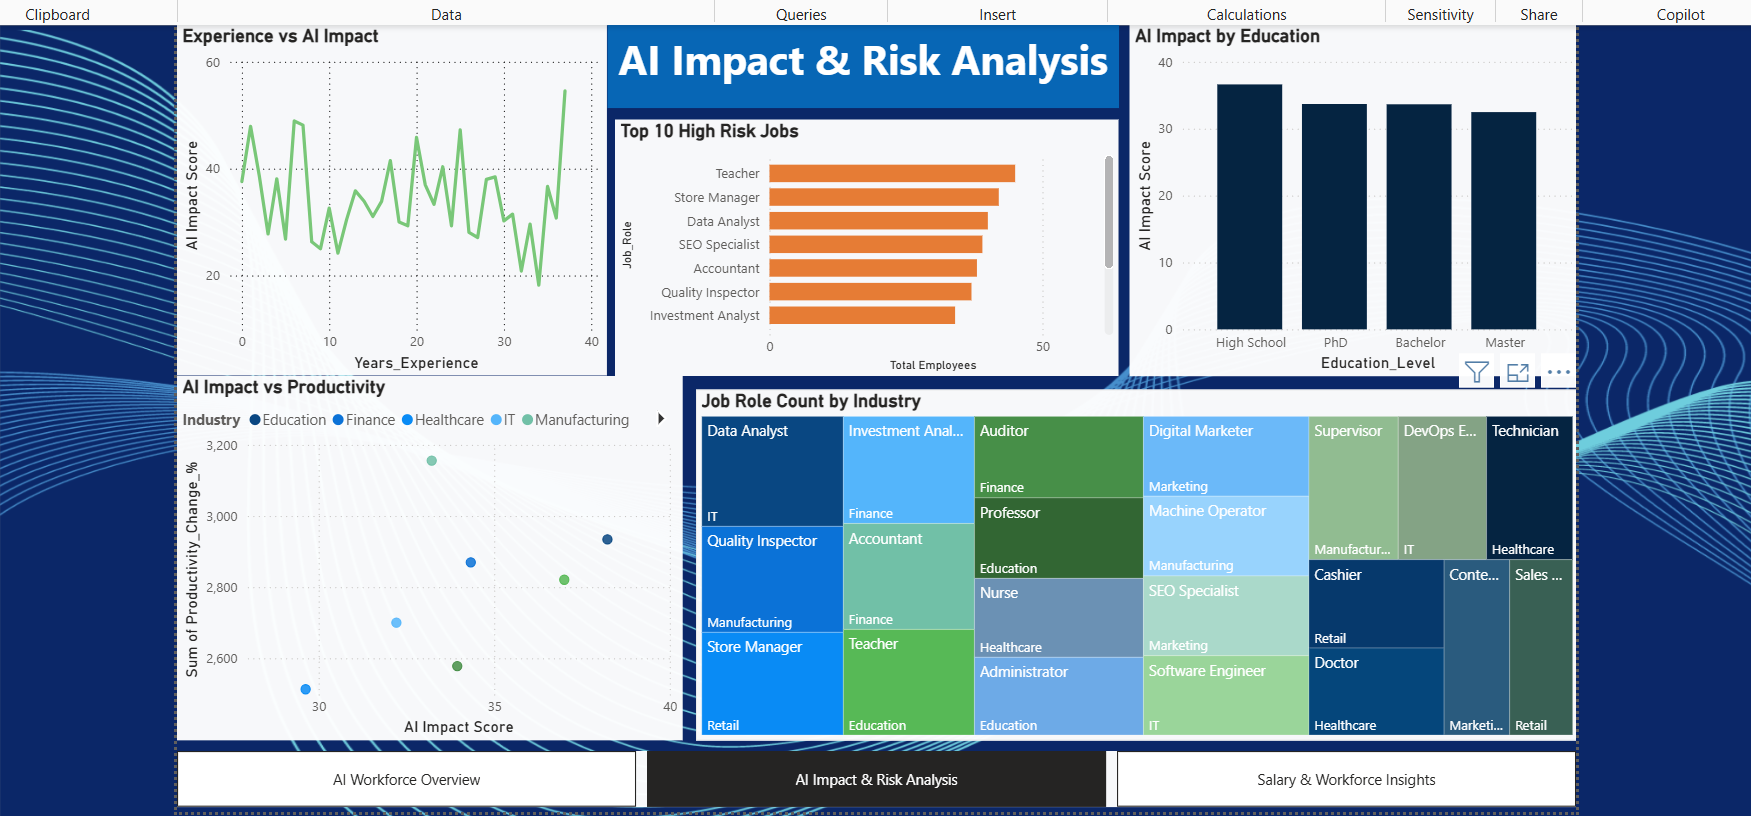

Layout of this report page (visuals, bound fields, positions):
{"tool":"powerbi","page":{"name":"AI Impact & Risk Analysis","canvas":[1280,720],"ordinal":1},"visuals":[{"type":"lineChart","title":"Experience vs AI Impact","fields":{"Y":["ai_job_impact fact.AI Impact Score"],"Category":["ai_job_impact fact.Years_Experience"]},"box":[0,0,393.6,320.7],"z":0},{"type":"clusteredColumnChart","title":"AI Impact by Education","fields":{"Category":["ai_job_impact fact.Education_Level"],"Y":["ai_job_impact fact.AI Impact Score"]},"box":[871.4,0,410.3,321.1],"z":1000},{"type":"scatterChart","title":"AI Impact vs Productivity","fields":{"Series":["Dim_industry&role.Industry"],"X":["ai_job_impact fact.AI Impact Score"],"Y":["Sum(Dim_working status.Productivity_Change_%)"]},"box":[0,321.1,462.5,333.5],"z":2000},{"type":"treemap","title":"Job Role Count by Industry","fields":{"Values":["ai_job_impact fact.Total Employees"],"Details":["Dim_industry&role.Industry"],"Group":["Dim_industry&role.Job_Role"]},"box":[474.8,333.5,806.9,321.1],"z":3000},{"type":"barChart","title":"Top 10 High Risk Jobs","fields":{"Category":["ai_job_impact fact.Job_Role"],"Y":["ai_job_impact fact.Total Employees"]},"box":[400.9,86,460.7,234.7],"z":4000},{"type":"textbox","box":[393.6,0,468,75.8],"z":5000},{"type":"pageNavigator","box":[0,664.8,1280,51],"z":6000}]}

Visuals, with their boxes in screenshot pixels (x1, y1, x2, y2):
"Experience vs AI Impact" lineChart: 187,27,611,373
"AI Impact by Education" clusteredColumnChart: 1127,27,1569,374
"AI Impact vs Productivity" scatterChart: 187,374,686,733
"Job Role Count by Industry" treemap: 699,387,1569,733
"Top 10 High Risk Jobs" barChart: 619,120,1116,373
textbox: 611,27,1116,109
pageNavigator: 187,744,1567,799
